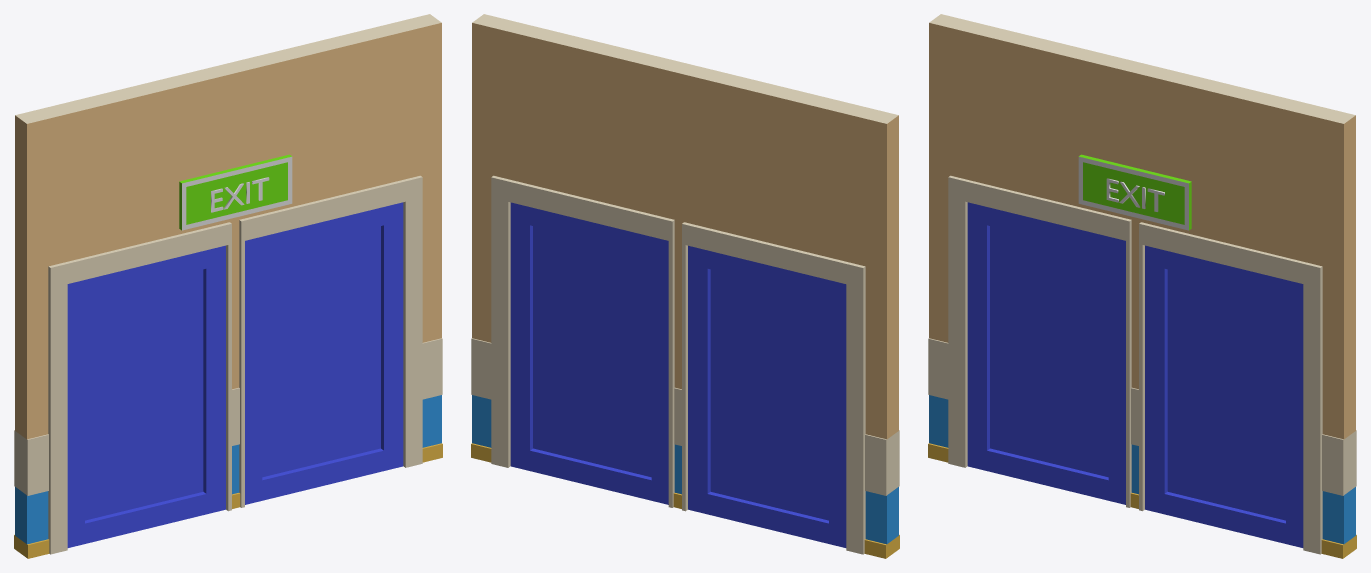
The model's file is exit.fbx.
The picture shows the model from 3 angles, left to right: view 1: azimuth 30°, elevation 25°; view 2: azimuth 150°, elevation 25°; view 3: azimuth 330°, elevation 25°; orthographic projection.
Parts seen in each view (by area): view 1: Cube.033, Cube.026, Text; view 2: Cube.033; view 3: Cube.033, Cube.026, Text.
Part boxes in pixels (x1,y1,x2,y2): Cube.033: (14,14,442,558); Cube.026: (179,154,292,230); Text: (211,177,269,212); Cube.033: (471,14,899,558); Cube.033: (928,14,1356,558); Cube.026: (1078,154,1191,230); Text: (1106,178,1164,211).
Bounding box in the file's own units: 4 × 0.2983 × 4.
